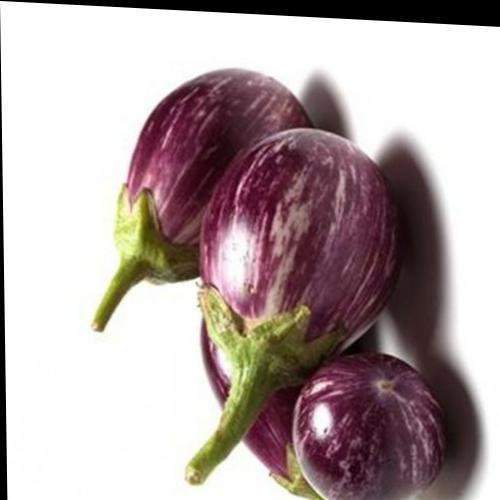eggplant: (175, 101, 417, 471), (198, 135, 438, 499), (69, 53, 300, 326), (286, 336, 461, 499)
